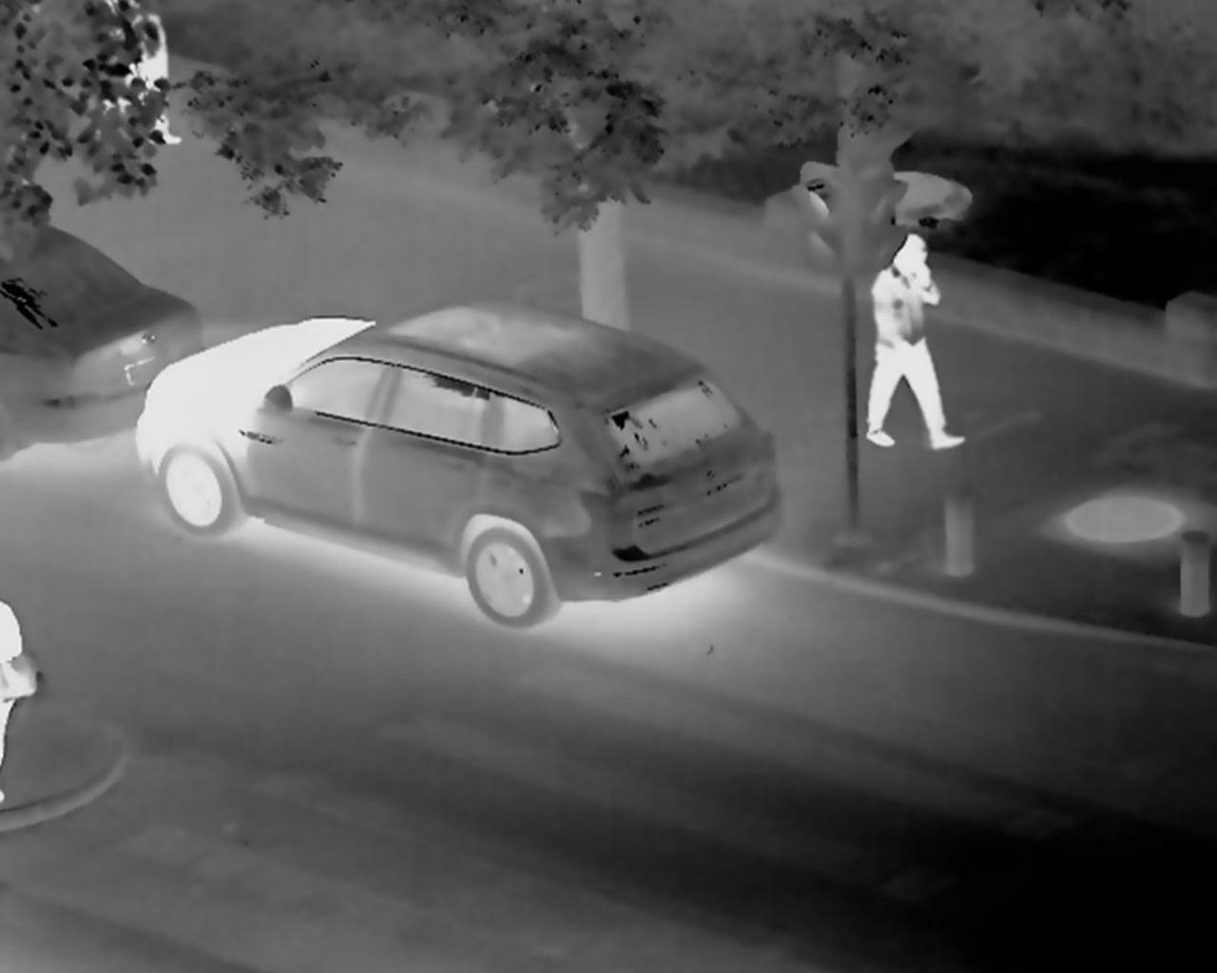person: (861, 228, 952, 450)
